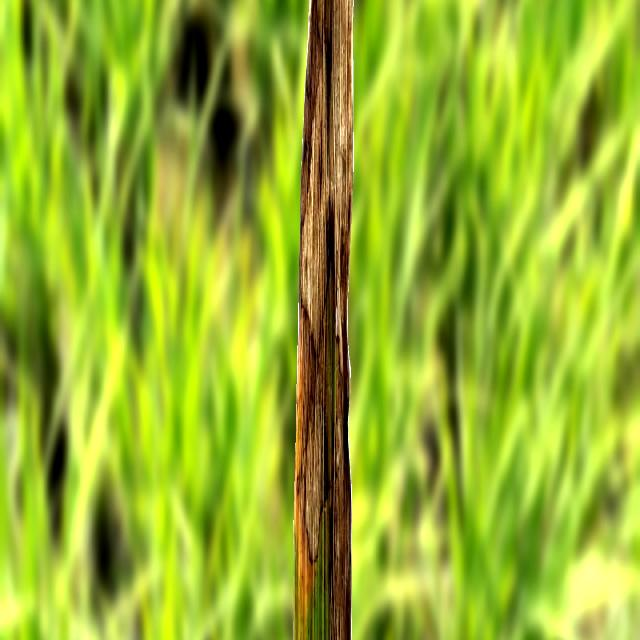BLB: (295, 0, 353, 640)
